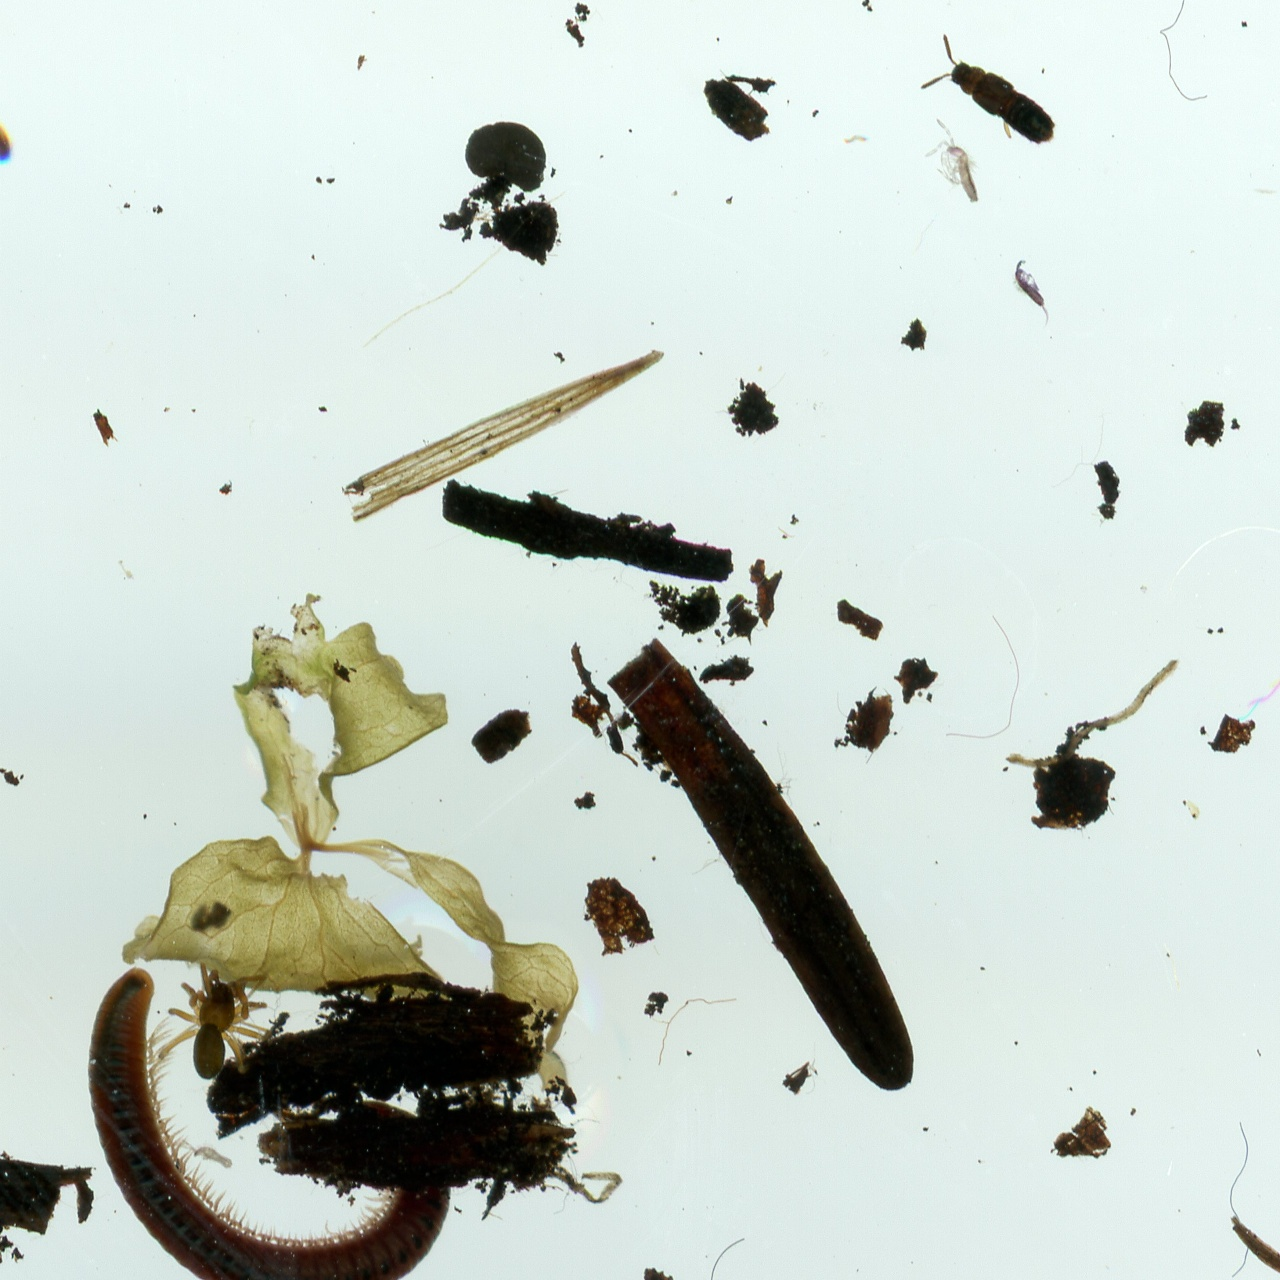arthropod: (86, 970, 454, 1280), (918, 25, 1055, 147), (156, 951, 276, 1077), (916, 113, 978, 205), (1014, 256, 1050, 324)
